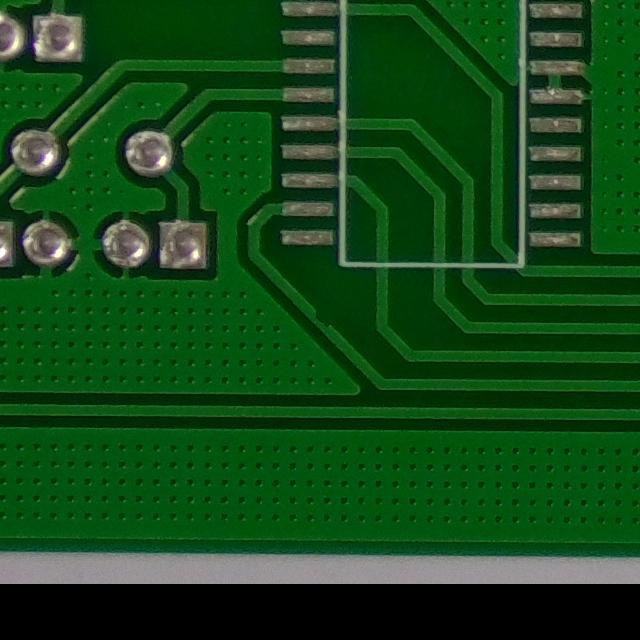mouse_bite: (301, 300, 340, 341)
